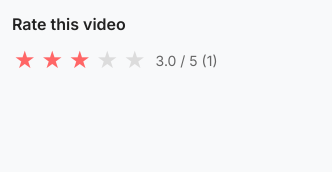
Test case: StarRating — MYTUBE-271: 500 error handling › reverts stars to previous state when submitRating fails with 500 error
Note: User tries to click the 5th star (change from 3 to 5)
Click the 5th button "★" at {"x": 135, "y": 60}, box x1=122 y1=46 x2=148 y2=74
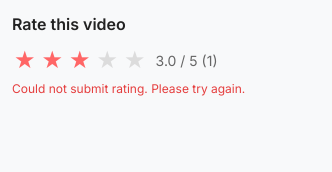
Now the message shows "Could not submit rating", box x1=12 y1=81 x2=245 y2=96
